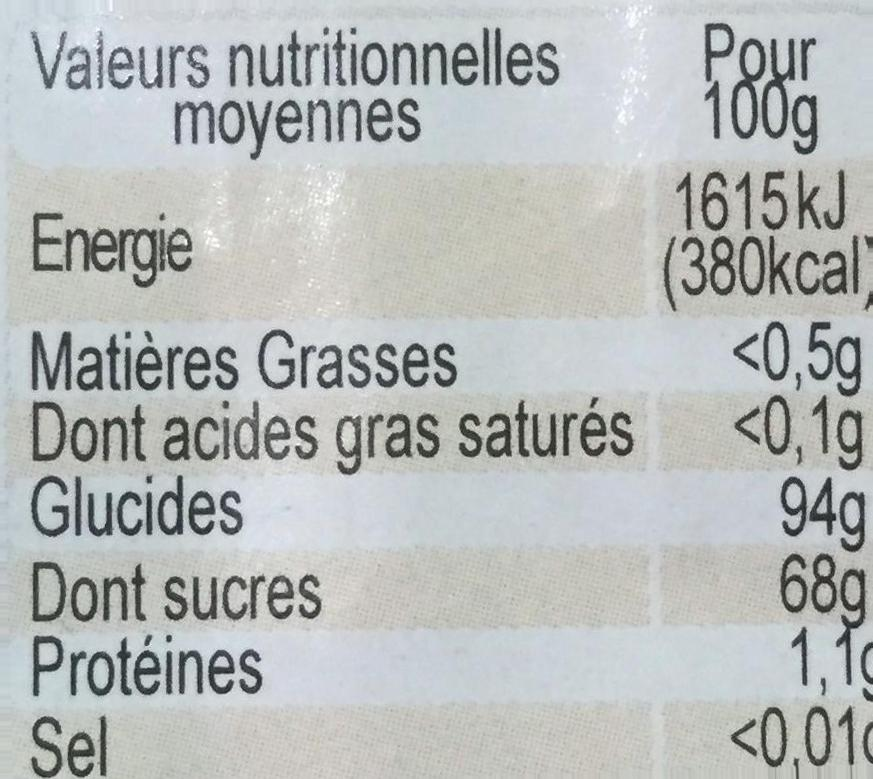column: (32, 32, 636, 777), (661, 22, 873, 779)
line: (32, 174, 873, 310), (30, 25, 873, 155), (32, 322, 867, 394), (34, 556, 870, 625), (31, 711, 873, 779), (34, 476, 873, 542), (32, 401, 873, 465), (33, 633, 873, 694)
table: (4, 1, 873, 779)
